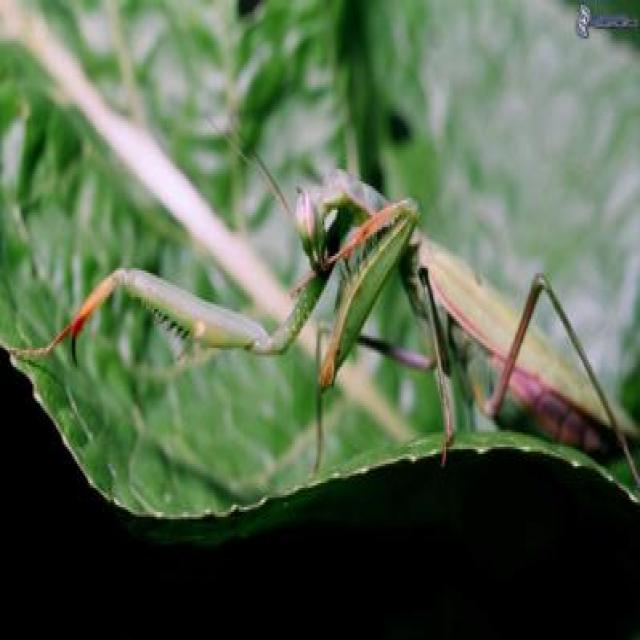antennae: (202, 114, 296, 232), (230, 97, 299, 225)
body: (294, 175, 603, 448)
insect: (0, 94, 640, 497)
legs: (6, 222, 348, 378), (294, 198, 429, 462), (486, 270, 640, 478), (311, 255, 457, 472), (422, 268, 453, 450)
mouthpart: (312, 253, 334, 280)
wings: (433, 245, 636, 429)
